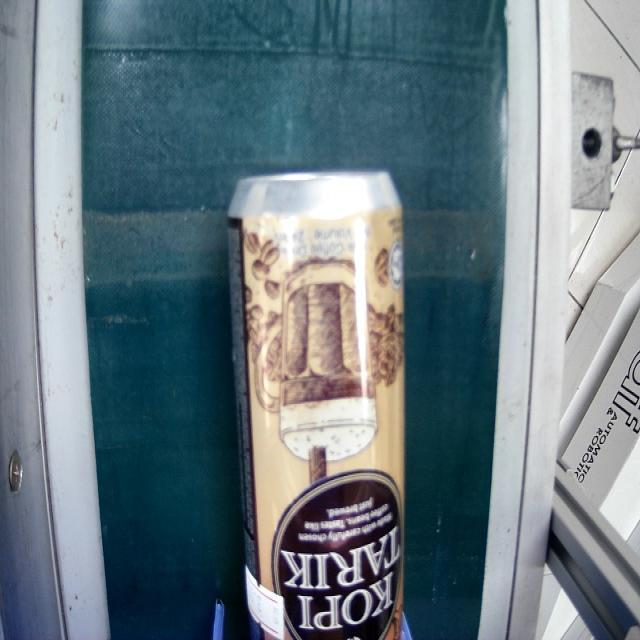can: (226, 170, 408, 640)
